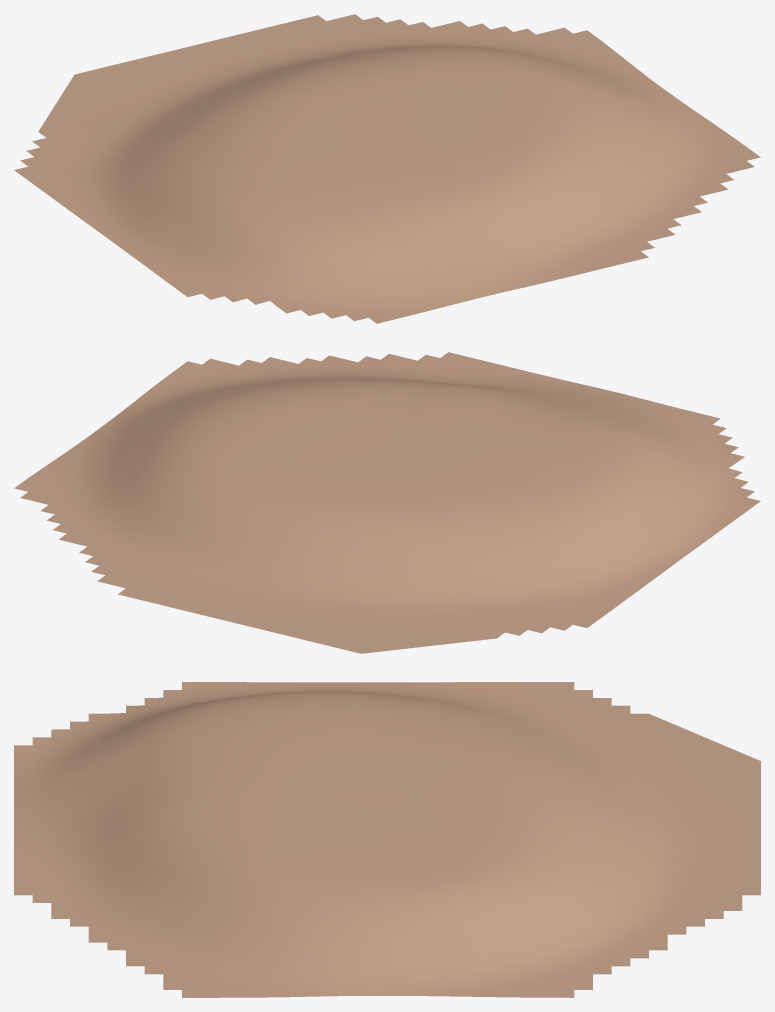
Rendered from island4.FBX.
3 renders of one model, top to bottom at view 1: azimuth 30°, elevation 25°; view 2: azimuth 150°, elevation 25°; view 3: azimuth 270°, elevation 25°, orthographic. The views are drawn at different scales.
Visible parts, largest first — view 1: plane; view 2: plane; view 3: plane.
Boxes of the visible parts, x1=… form: plane: x1=14, y1=14, x2=760, y2=323; plane: x1=14, y1=352, x2=760, y2=653; plane: x1=14, y1=682, x2=760, y2=997.
Bounding box in the file's own units: 118 × 7.24 × 118.
